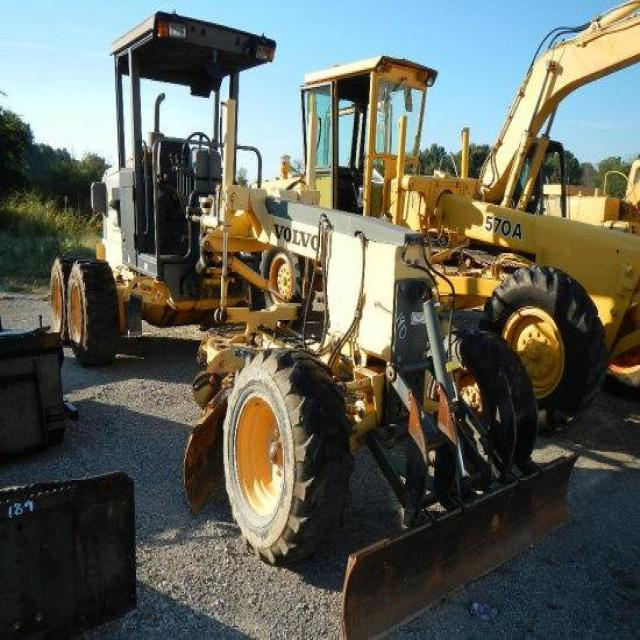Grader: (46, 6, 578, 620)
